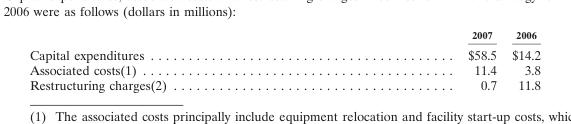table: (29, 28, 539, 92)
table column: (29, 28, 316, 92), (316, 28, 503, 92), (503, 28, 539, 92)
table column header: (29, 28, 539, 43)
table row: (29, 43, 539, 61), (29, 61, 539, 77), (29, 28, 539, 43), (29, 77, 539, 92)
